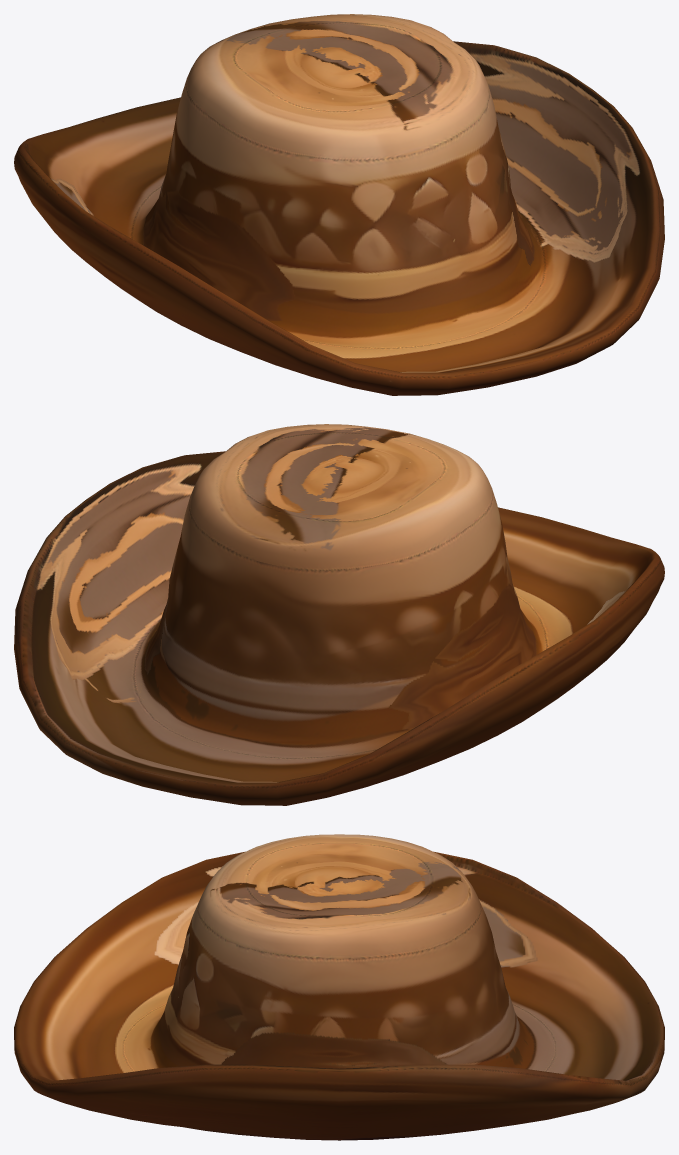
Rendered from SombreroRetopo.fbx.
3 renders of one model, top to bottom at view 1: azimuth 30°, elevation 25°; view 2: azimuth 150°, elevation 25°; view 3: azimuth 270°, elevation 25°, orthographic. The views are drawn at different scales.
Parts seen in each view (by area): view 1: SombreroRetopo; view 2: SombreroRetopo; view 3: SombreroRetopo.
Part boxes in pixels (x1=…): SombreroRetopo: x1=14, y1=14, x2=664, y2=395; SombreroRetopo: x1=14, y1=424, x2=664, y2=805; SombreroRetopo: x1=14, y1=834, x2=664, y2=1140.
Bounding box in the file's own units: 157 × 63.31 × 190.
Materials: 1 (1 with a texture image).
